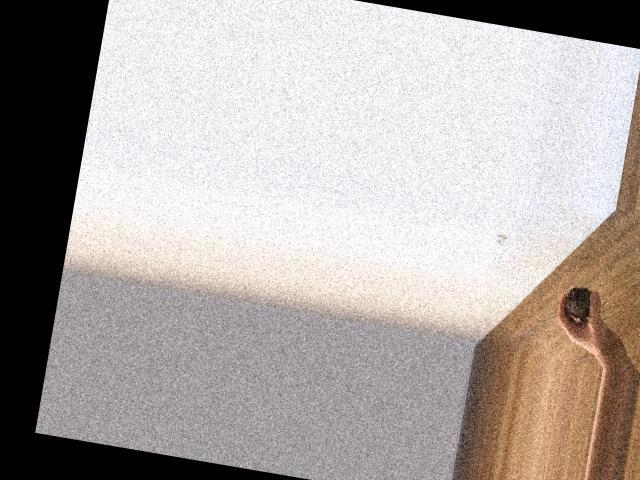beet: (562, 284, 608, 322)
